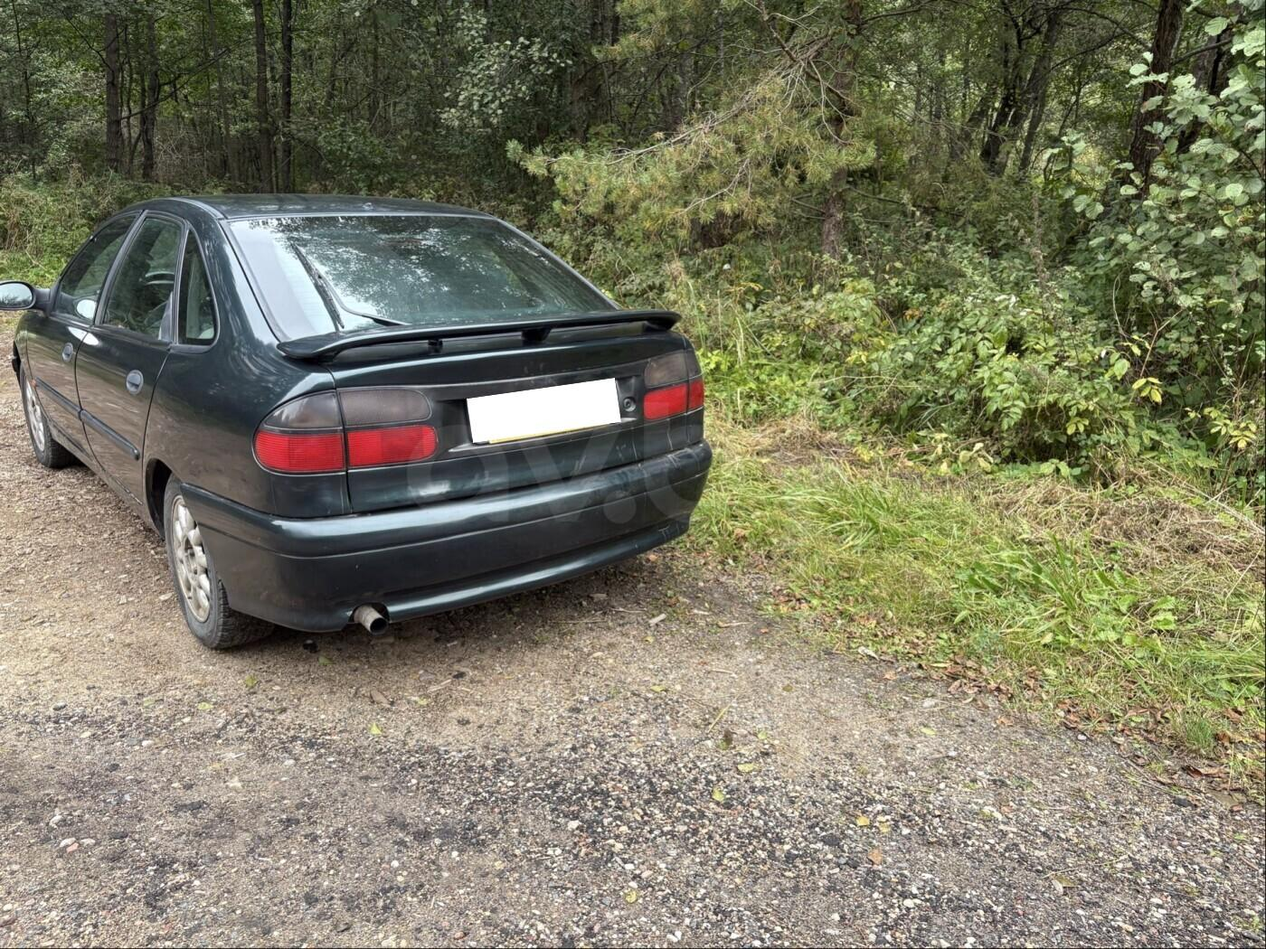Lahuna_1993-1999: (1, 183, 714, 658)
